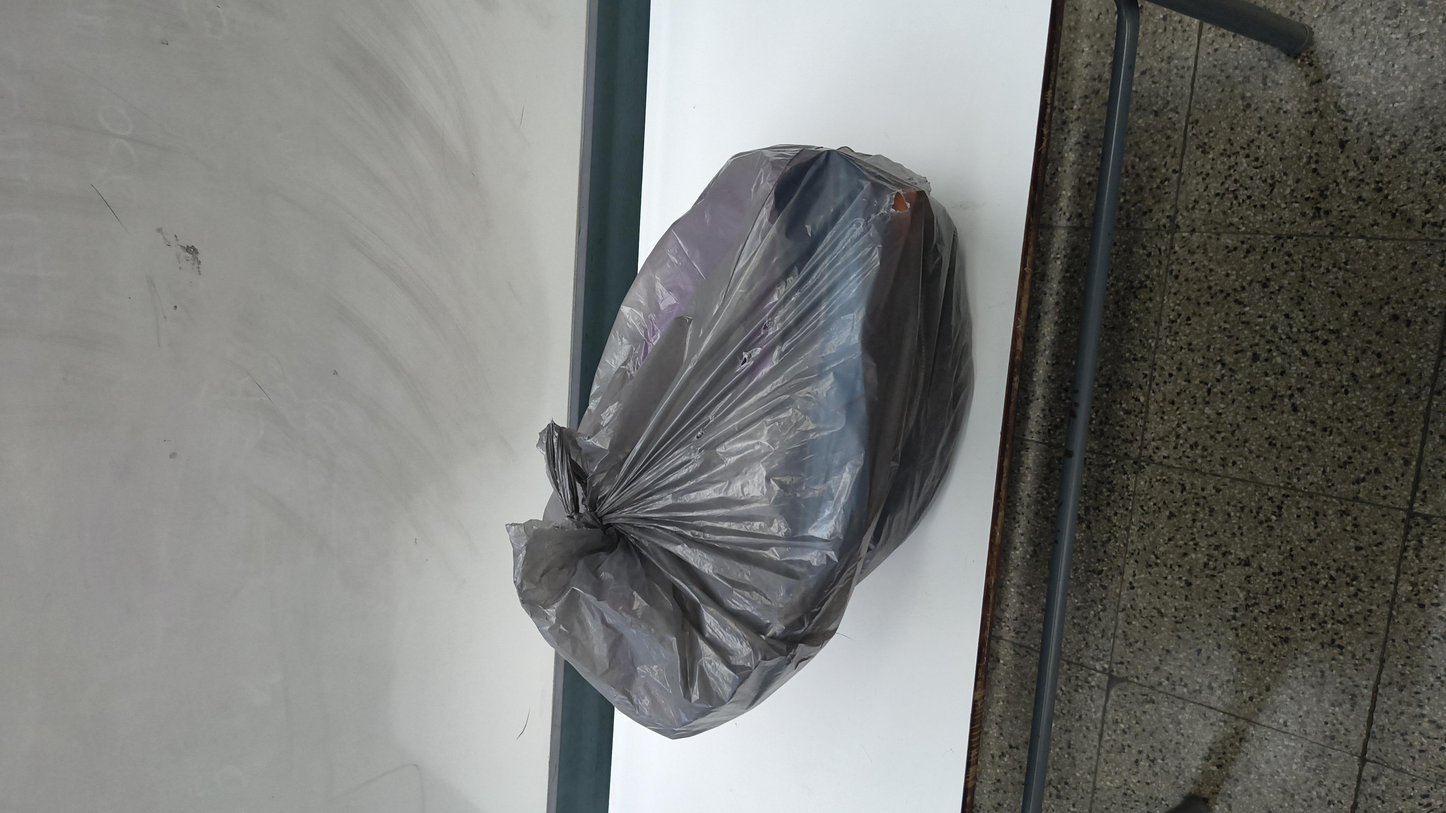Garbage: (50, 264, 1312, 595)
